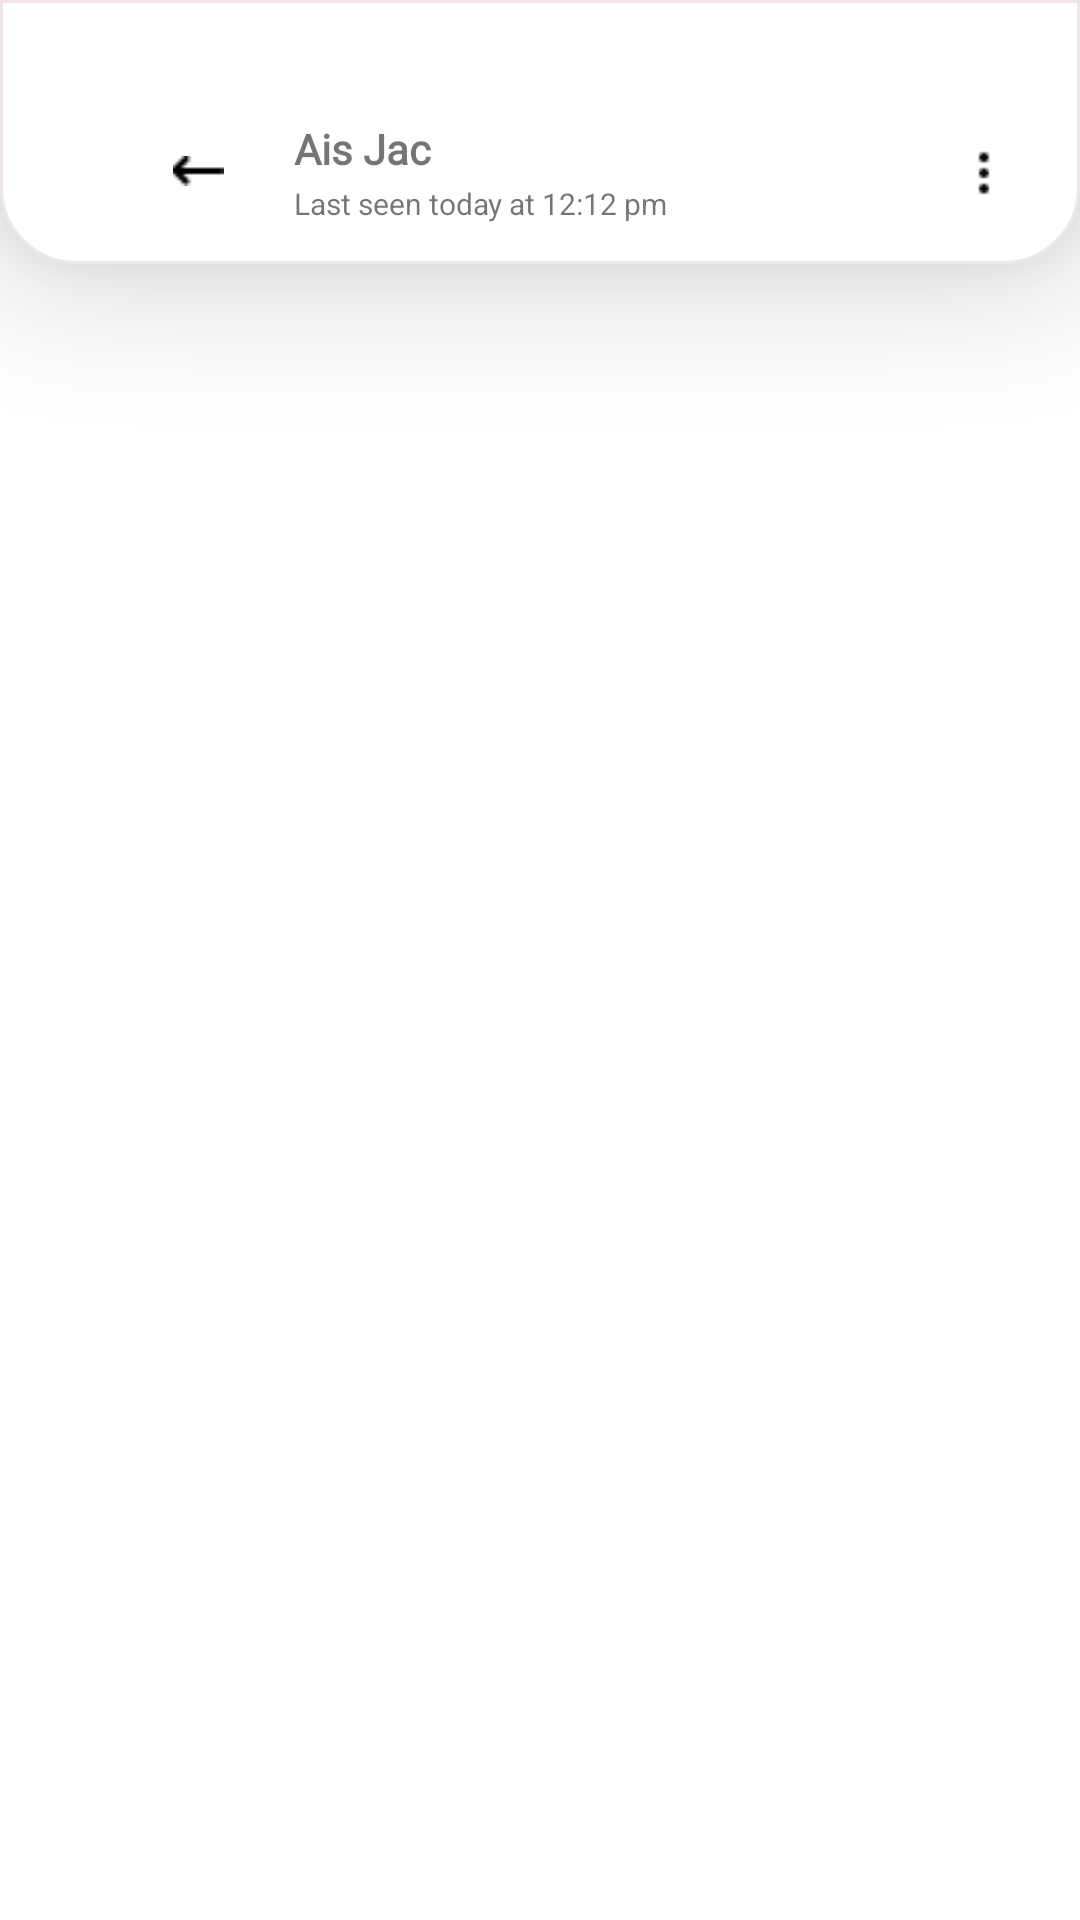

Named icons in this screenshot (1080x1920) and their bounding boxes, [x1=x1, y1=y1, x2=x2, y2=y2]:
back arrow: [x1=173, y1=156, x2=224, y2=186]
